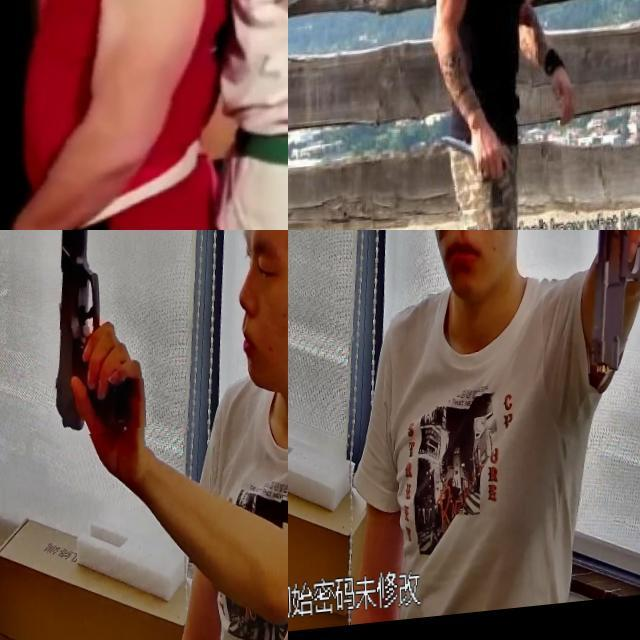-: (0, 0, 73, 83), (435, 127, 508, 192)
gun-knife-thesis - v11 Yolov5 augmented: (31, 230, 150, 441), (575, 230, 640, 384)
